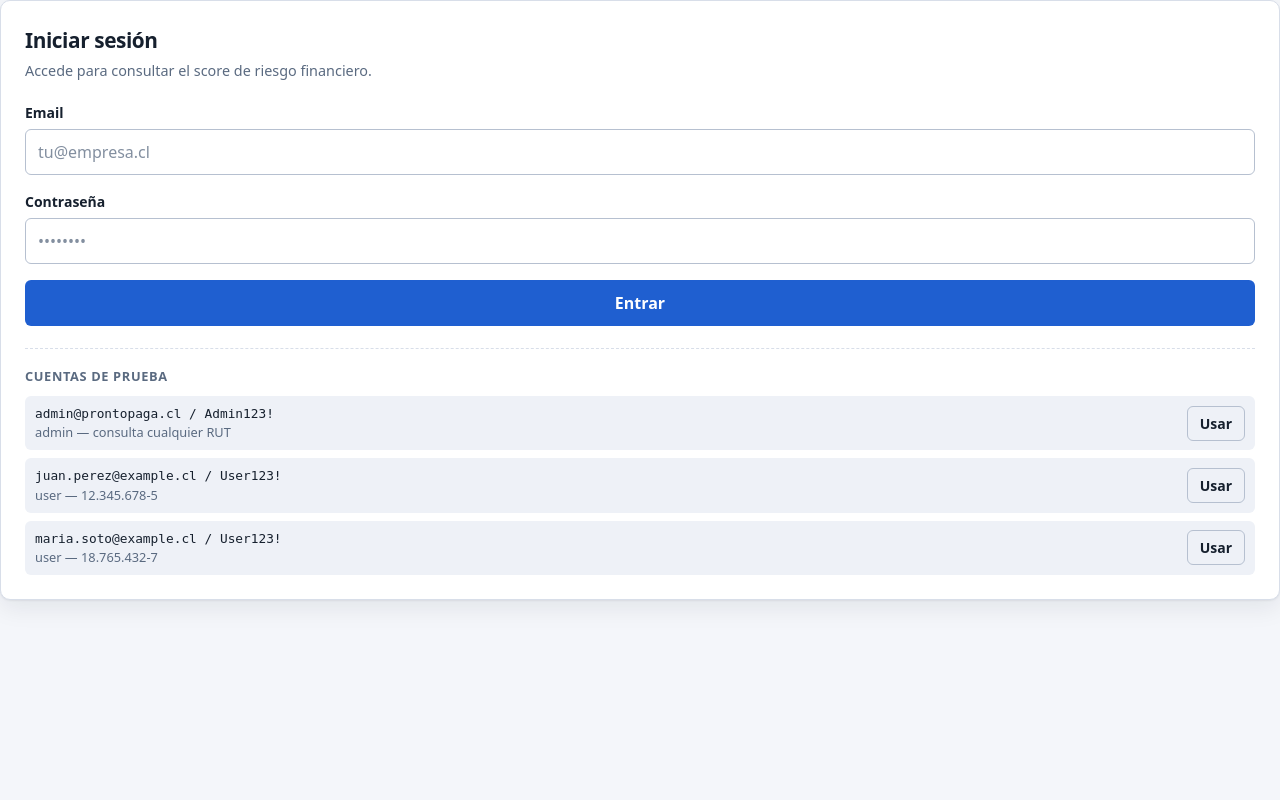
Test: LoginPage › limpia la contrasena tras un intento fallido
The width and height of the screenshot is (1280, 800).
Type "juan.perez@example.cl" into the field labelled "Email".
click(640, 152); type("juan.perez@example.cl")  # box [25,129,1255,175]
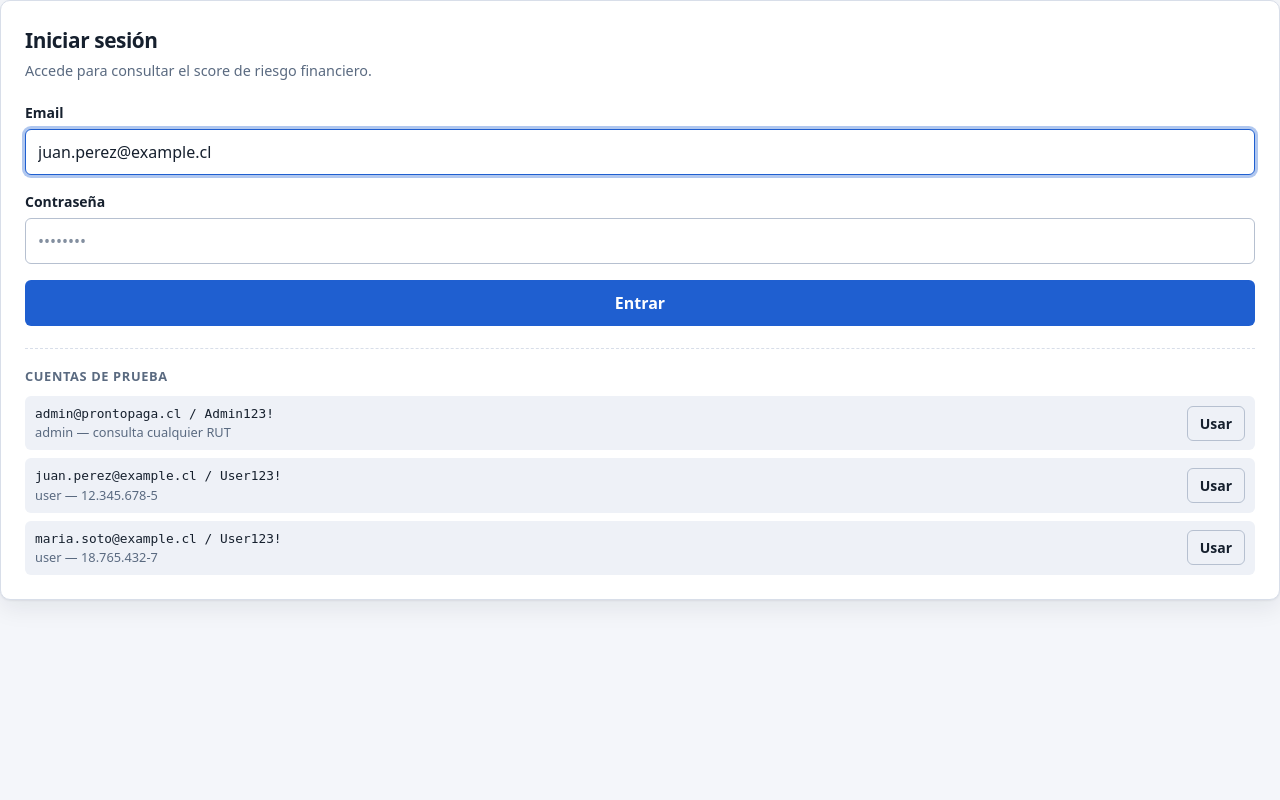
Type "incorrecta" into the password field labelled "Contraseña".
click(640, 241); type("incorrecta")  # box [25,218,1255,264]
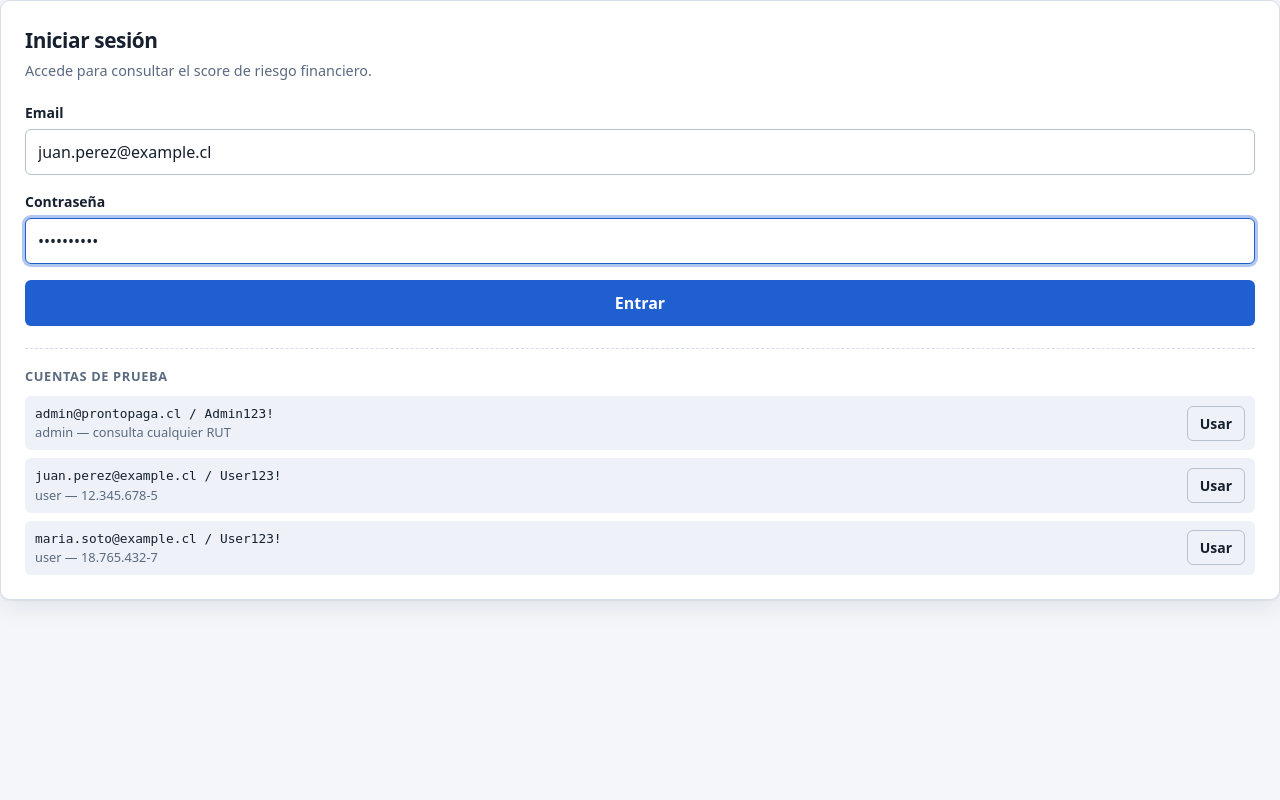
Click the button "Entrar".
click(640, 303)  # box [25,280,1255,326]
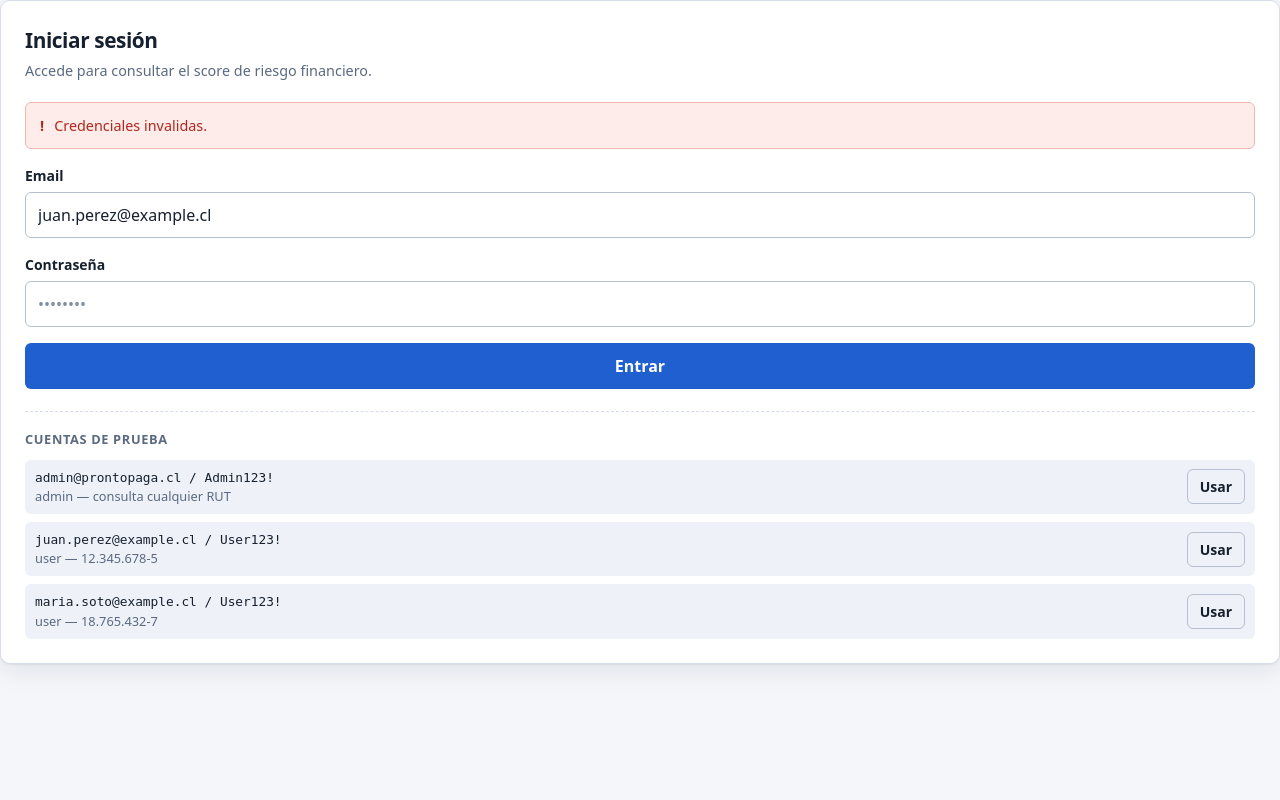
expect the message "! Credenciales invalidas." is shown: met, box [25,102,1255,149]
expect the password field labelled "Contraseña" is empty: met, box [25,281,1255,327]
